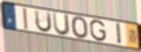G: (89, 20, 108, 43)
I: (115, 22, 123, 46), (22, 7, 29, 31)
O: (71, 15, 90, 40)
U: (51, 11, 71, 37), (34, 9, 53, 34)
